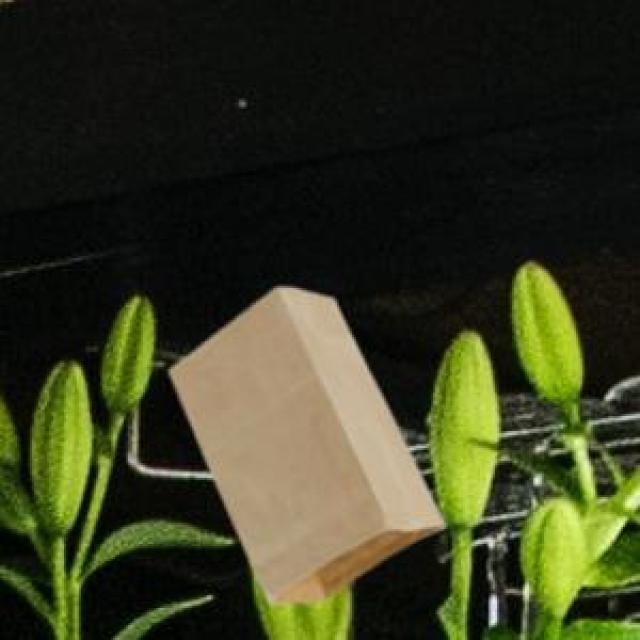paper: (166, 284, 440, 600)
